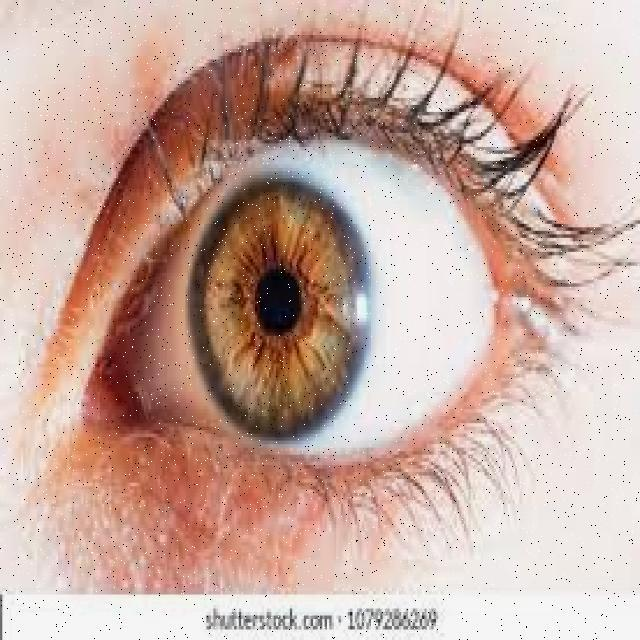Normal: (12, 7, 638, 591)
